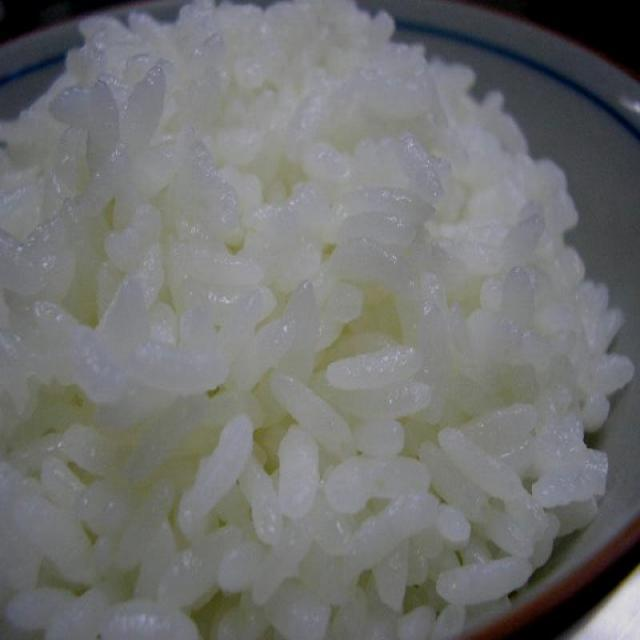rice: (3, 1, 633, 639)
